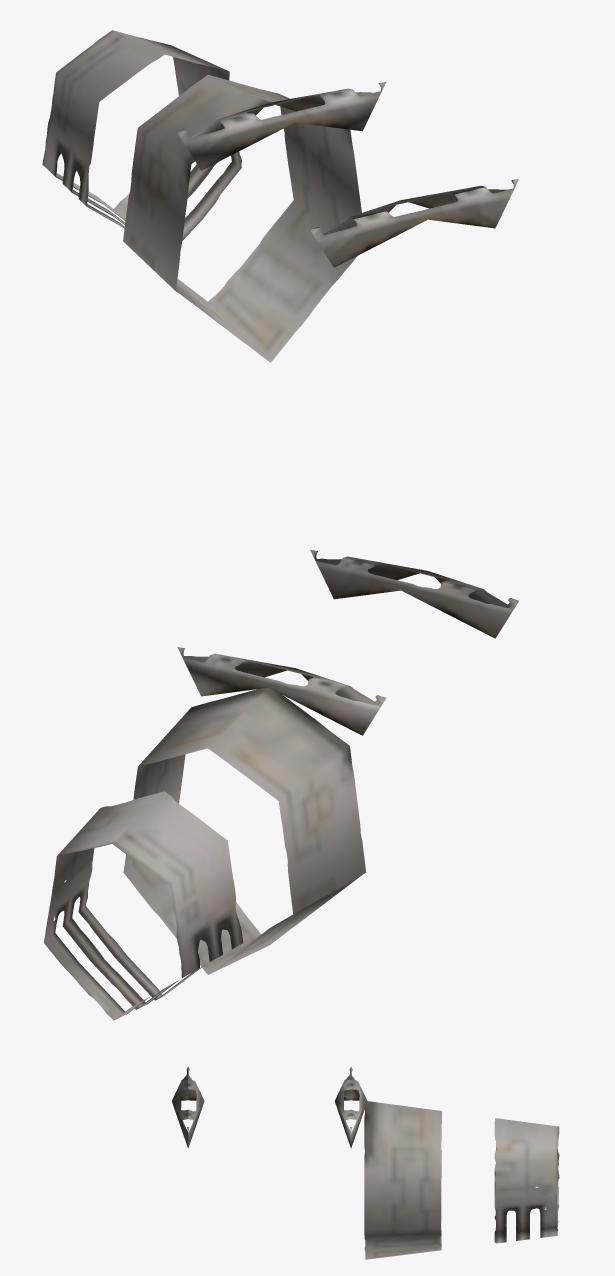
File: hutt_fighter_medium_engine_s01_l3.fbx
3 renders of one model, top to bottom at view 1: azimuth 30°, elevation 25°; view 2: azimuth 150°, elevation 25°; view 3: azimuth 270°, elevation 25°, orthographic. The views are drawn at different scales.
Parts seen in each view (by area): view 1: mesh_node; view 2: mesh_node; view 3: mesh_node.
Boxes of the visible parts, x1,y1,x2,y2 form: mesh_node: (42,30,518,362); mesh_node: (44,549,518,1020); mesh_node: (172,1066,559,1259).
Bounding box in the file's own units: 2.52 × 3.07 × 9.96.
